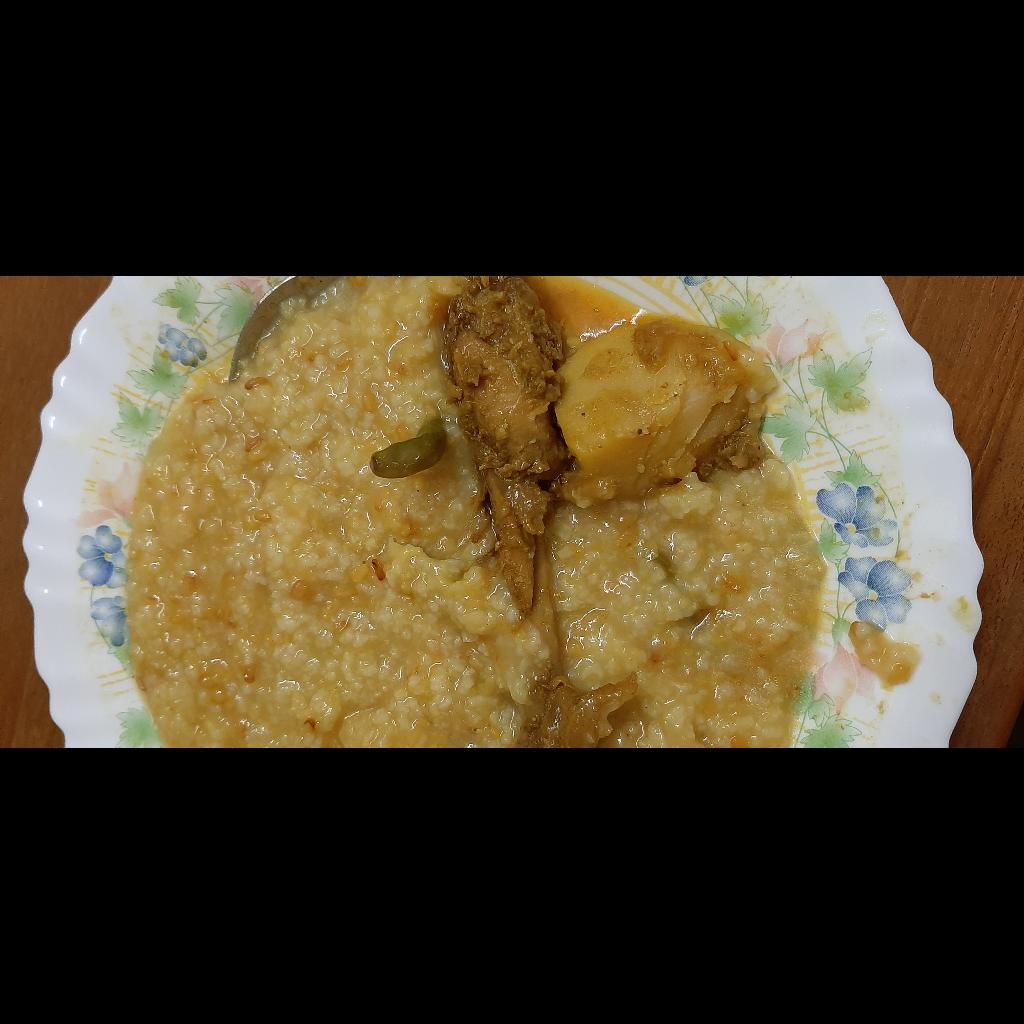chicken: (150, 719, 472, 843), (0, 770, 74, 919)
khichuri: (0, 402, 472, 1024)
potato: (250, 822, 439, 1024)
